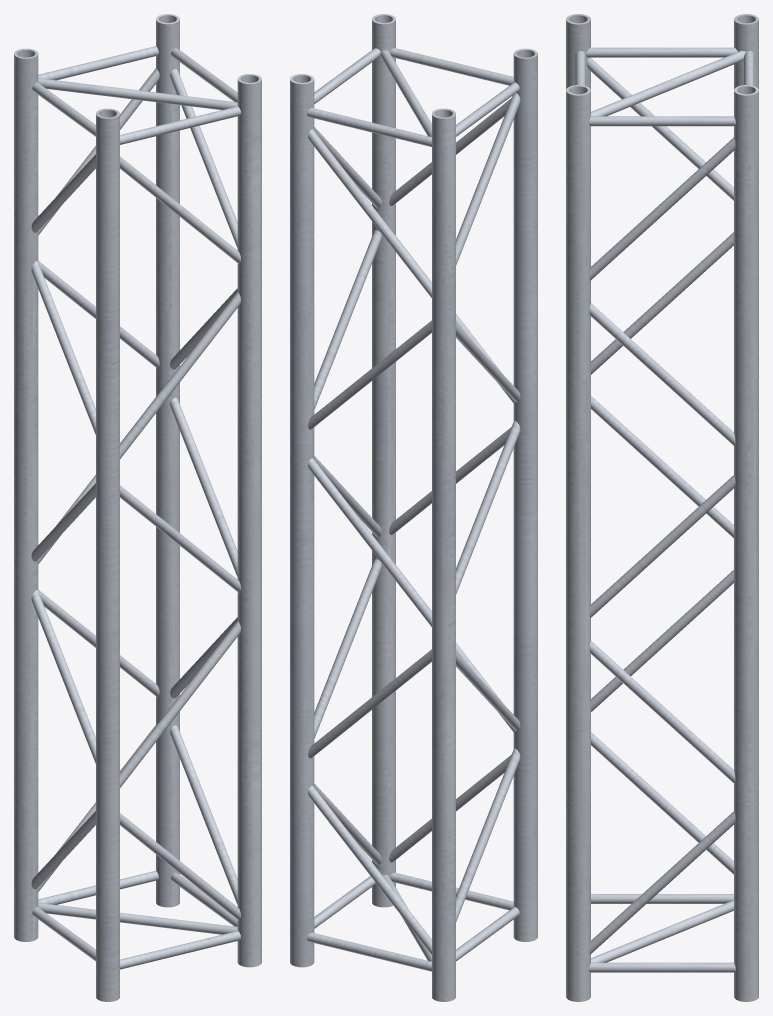
The model's file is Prolyte_H40V_2m-80c472fc.glb.
3 renders of one model, left to right at view 1: azimuth 30°, elevation 25°; view 2: azimuth 150°, elevation 25°; view 3: azimuth 270°, elevation 25°, orthographic. The views are drawn at different scales.
Parts seen in each view (by area): view 1: Geom3D (×9), Geom3D_Component#1 (×14), Geom3D_Component#2 (×4), Geom3D_Component#10 (×2); view 2: Geom3D (×9), Geom3D_Component#1 (×14), Geom3D_Component#2 (×4), Geom3D_Component#10; view 3: Geom3D (×7), Geom3D_Component#1 (×8), Geom3D_Component#10 (×2).
Boxes of the visible parts, left/top/right/bottom form: Geom3D (×9): left=14, top=14, right=261, bottom=1001; Geom3D_Component#1 (×14): left=31, top=261, right=240, bottom=920; Geom3D_Component#2 (×4): left=38, top=46, right=240, bottom=969; Geom3D_Component#10 (×2): left=38, top=78, right=237, bottom=934; Geom3D (×9): left=290, top=14, right=537, bottom=1001; Geom3D_Component#1 (×14): left=308, top=230, right=520, bottom=954; Geom3D_Component#2 (×4): left=307, top=48, right=513, bottom=971; Geom3D_Component#10: left=380, top=50, right=431, bottom=136; Geom3D (×7): left=566, top=14, right=758, bottom=1001; Geom3D_Component#1 (×8): left=589, top=232, right=735, bottom=954; Geom3D_Component#10 (×2): left=591, top=51, right=745, bottom=962.
Size of the model in its own units: 0.3859 by 2 by 0.3858.
Materials: 1 (1 with a texture image).
